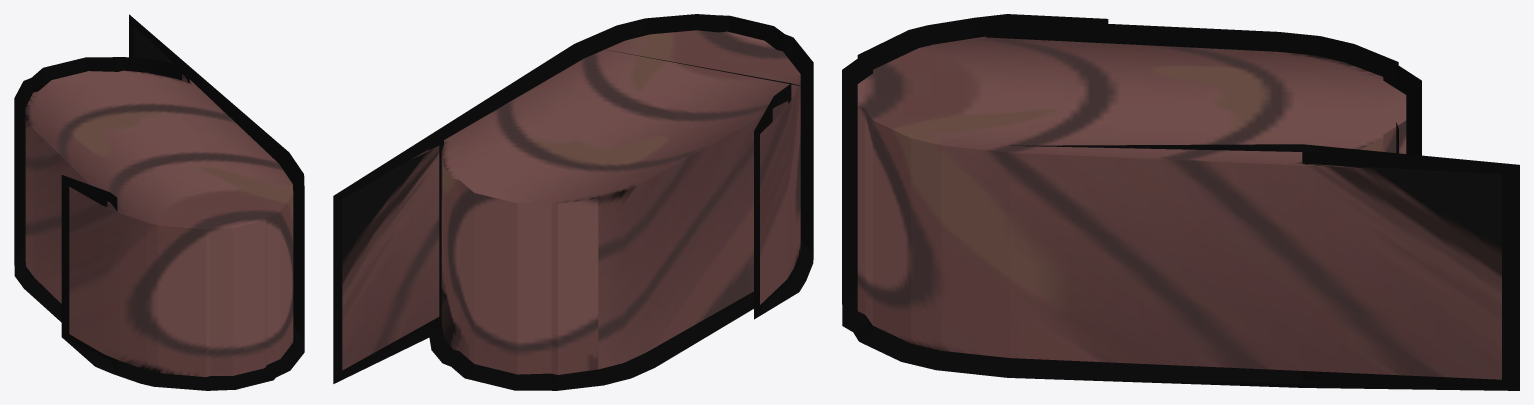
File: Building_AncientChembarrel_Things_Building_Ancient_Chemfuel_AncientChembarrel_AncientChembarrelC.glb
The picture shows the model from 3 angles, left to right: view 1: azimuth 30°, elevation 25°; view 2: azimuth 150°, elevation 25°; view 3: azimuth 270°, elevation 25°; orthographic projection. The views are drawn at different scales.
Parts seen in each view (by area): view 1: Body, Outline; view 2: Body, Outline; view 3: Body, Outline.
Boxes of the visible parts, <box> form: Body: <box>25,27,293,377</box>; Outline: <box>14,14,304,390</box>; Body: <box>342,30,800,374</box>; Outline: <box>333,14,813,390</box>; Body: <box>857,36,1501,379</box>; Outline: <box>842,14,1519,390</box>.
Size of the model in its own units: 0.641 by 0.4926 by 1.24.
Materials: 2 (1 with a texture image).
